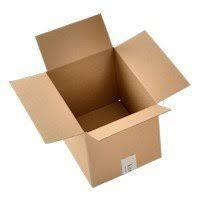box: (9, 14, 191, 189)
